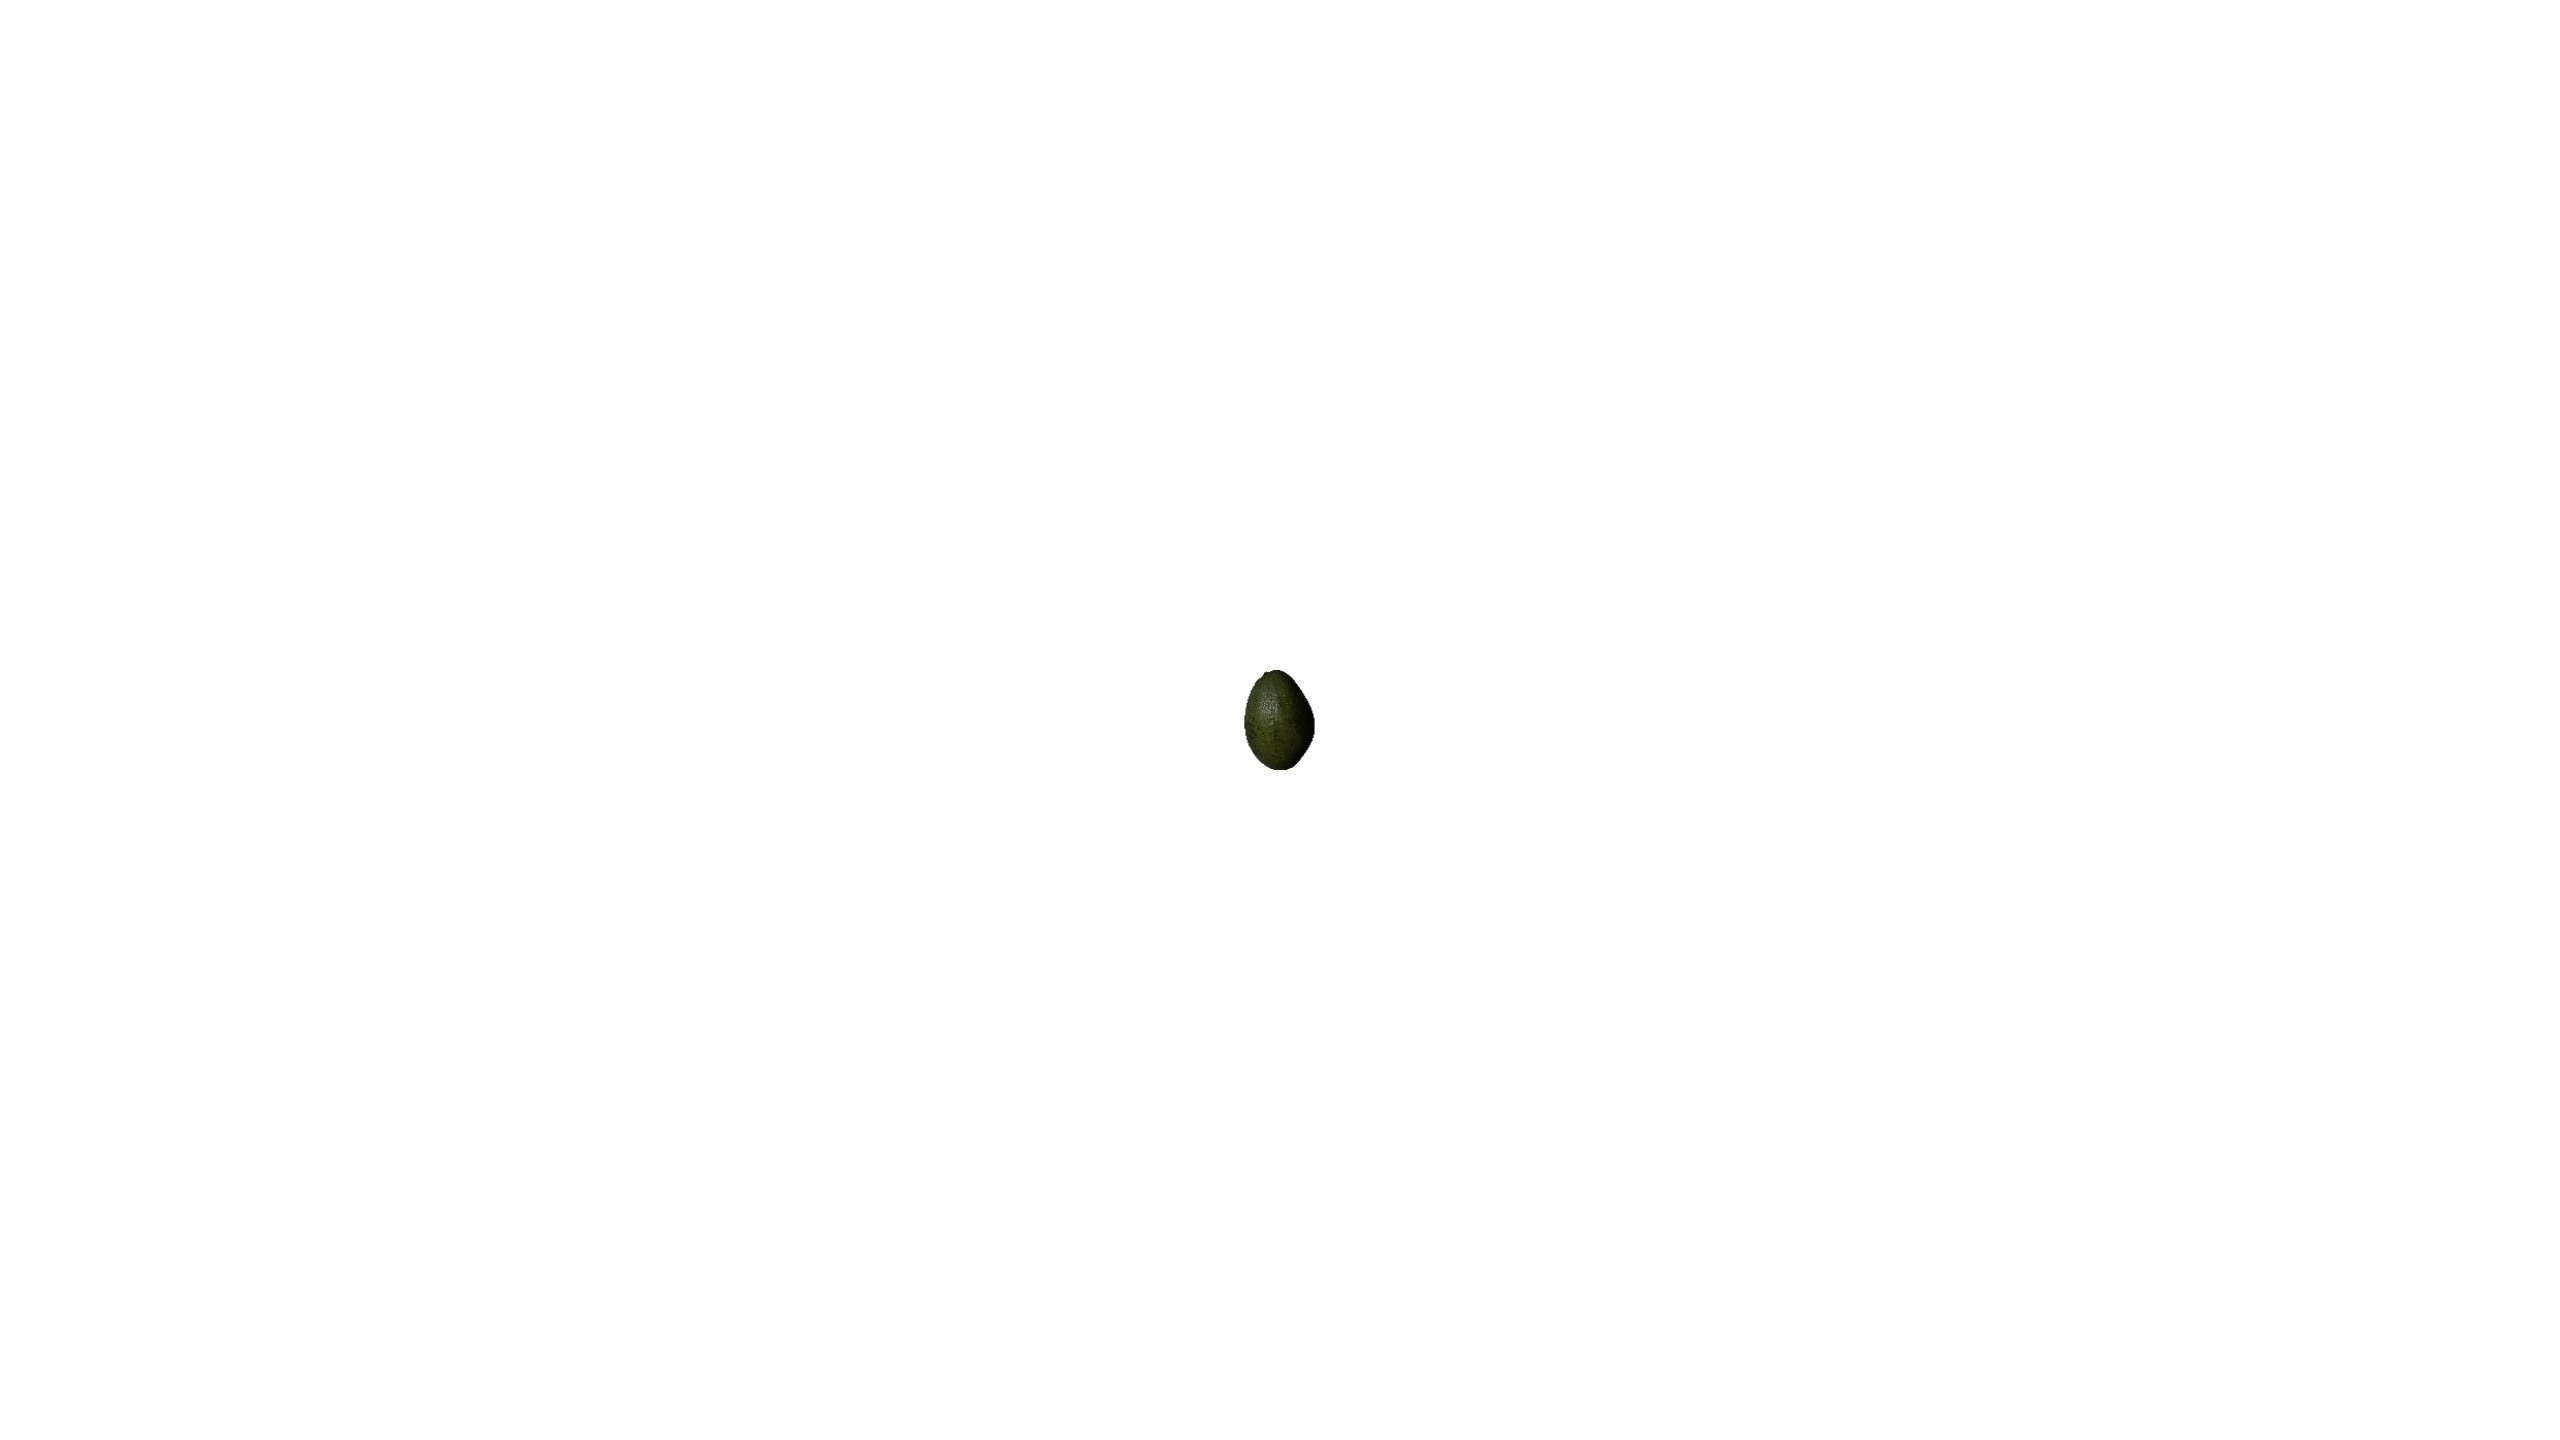abacate: (1233, 663, 1319, 775)
